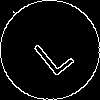L: (25, 25, 76, 78)
